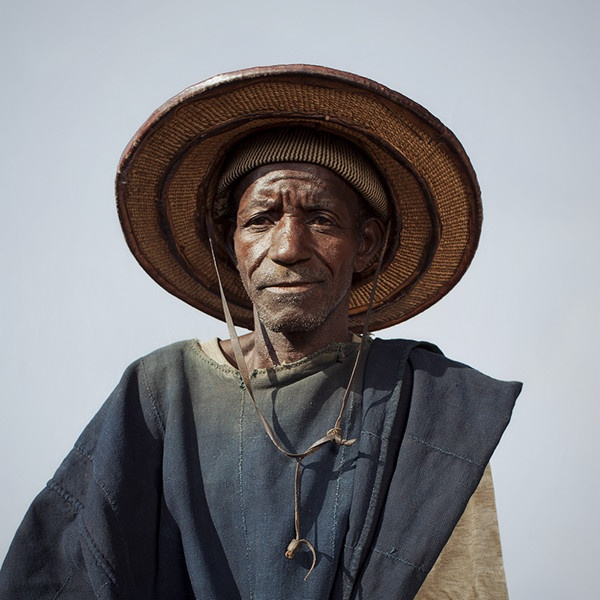without_mask: (214, 154, 354, 334)
